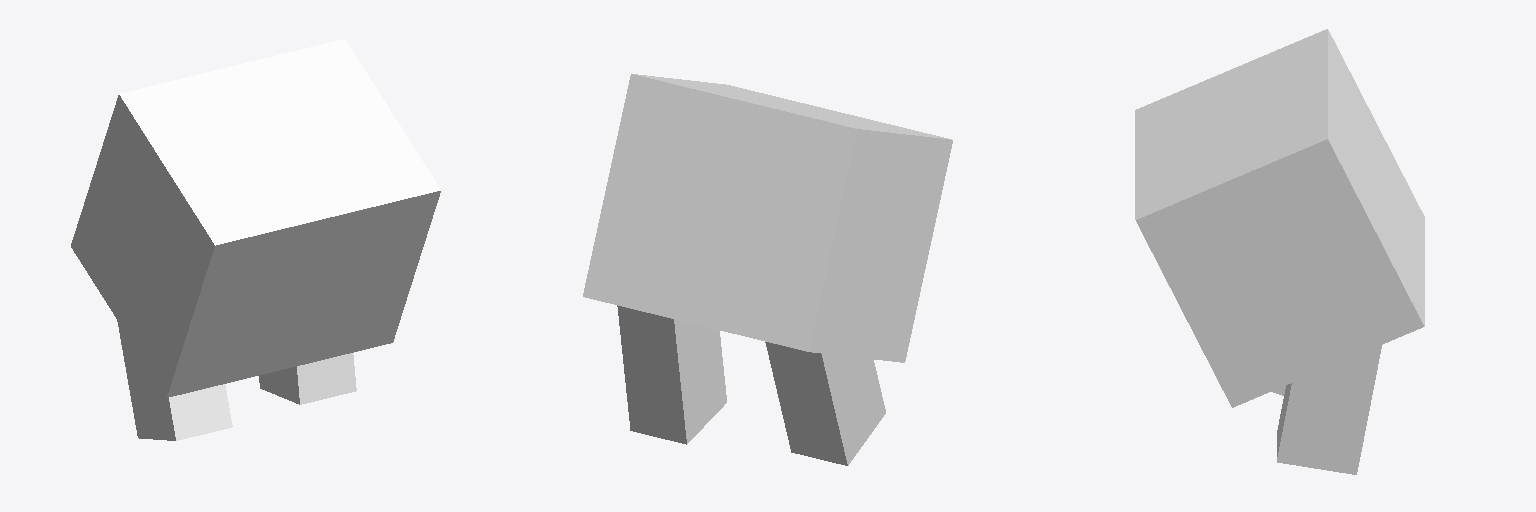
The model's file is mt_horse_mf.obj.
The picture shows the model from 3 angles: view 1: azimuth 30°, elevation 25°; view 2: azimuth 150°, elevation 25°; view 3: azimuth 270°, elevation 25°; orthographic projection.
Parts seen in each view (by area): view 1: cube, cube.000, cube.001; view 2: cube, cube.001, cube.000; view 3: cube, cube.001.
Boxes of the visible parts, x1,y1,x2,y2 form: cube: [71, 39, 440, 397]; cube.000: [117, 320, 232, 440]; cube.001: [259, 353, 356, 404]; cube: [583, 74, 952, 362]; cube.001: [617, 305, 726, 444]; cube.000: [765, 342, 885, 465]; cube: [1135, 29, 1424, 407]; cube.001: [1277, 345, 1381, 474].
Bounding box in the file's own units: 0.968 × 1.41 × 1.07.